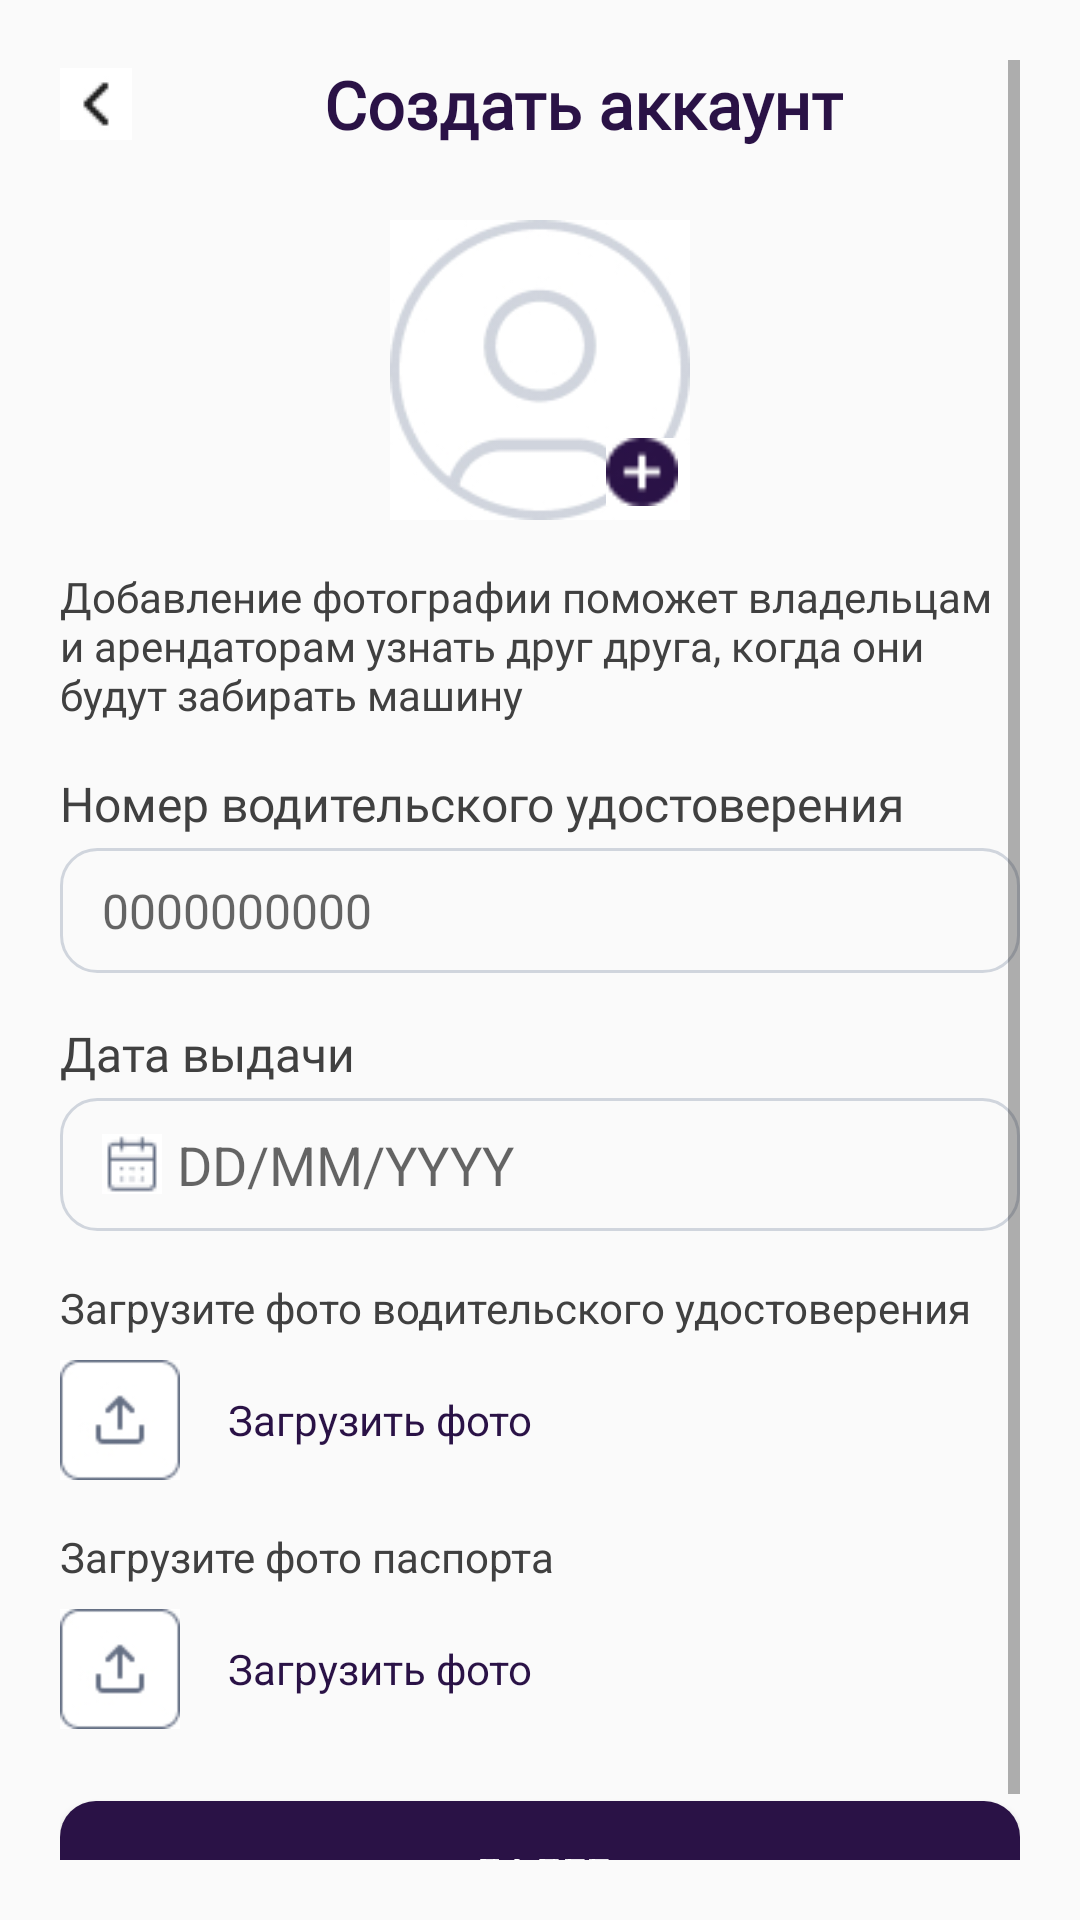

Icon click points for this 1080px×1920px phone screenshot, format (x,y):
Календарь: (132,1164)
Назад: (96,104)
